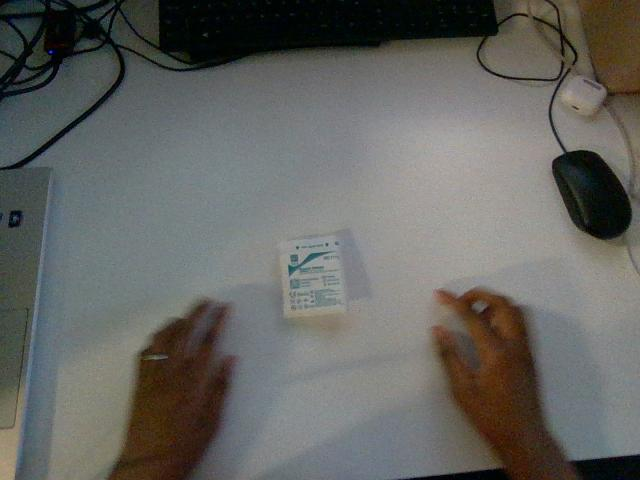gauze: (280, 237, 346, 317)
